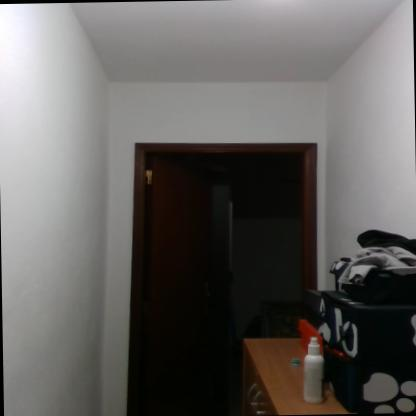open: (109, 113, 345, 416)
